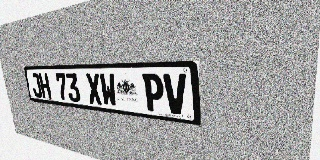3: (65, 73, 81, 103)
7: (55, 73, 69, 101)
H: (38, 73, 52, 99)
J: (30, 73, 43, 98)
P: (142, 73, 165, 113)
V: (163, 73, 188, 115)
W: (99, 73, 118, 107)
X: (85, 73, 103, 105)
